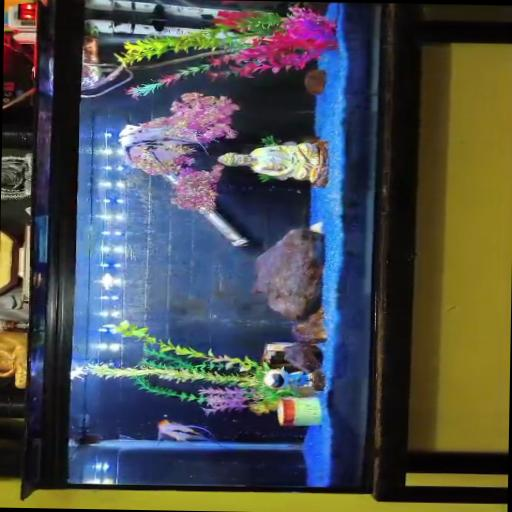Fish: (119, 124, 207, 160), (158, 419, 223, 445), (150, 3, 166, 31)
